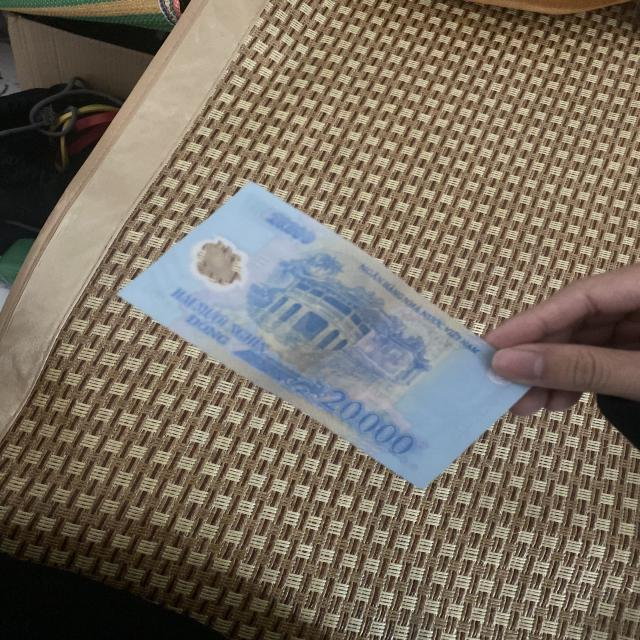20 000 VND: (114, 180, 534, 492)
